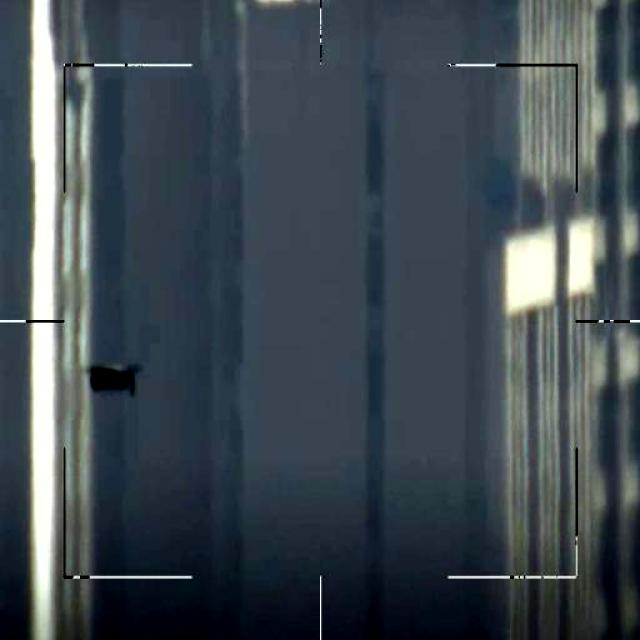bird: (94, 361, 142, 395)
